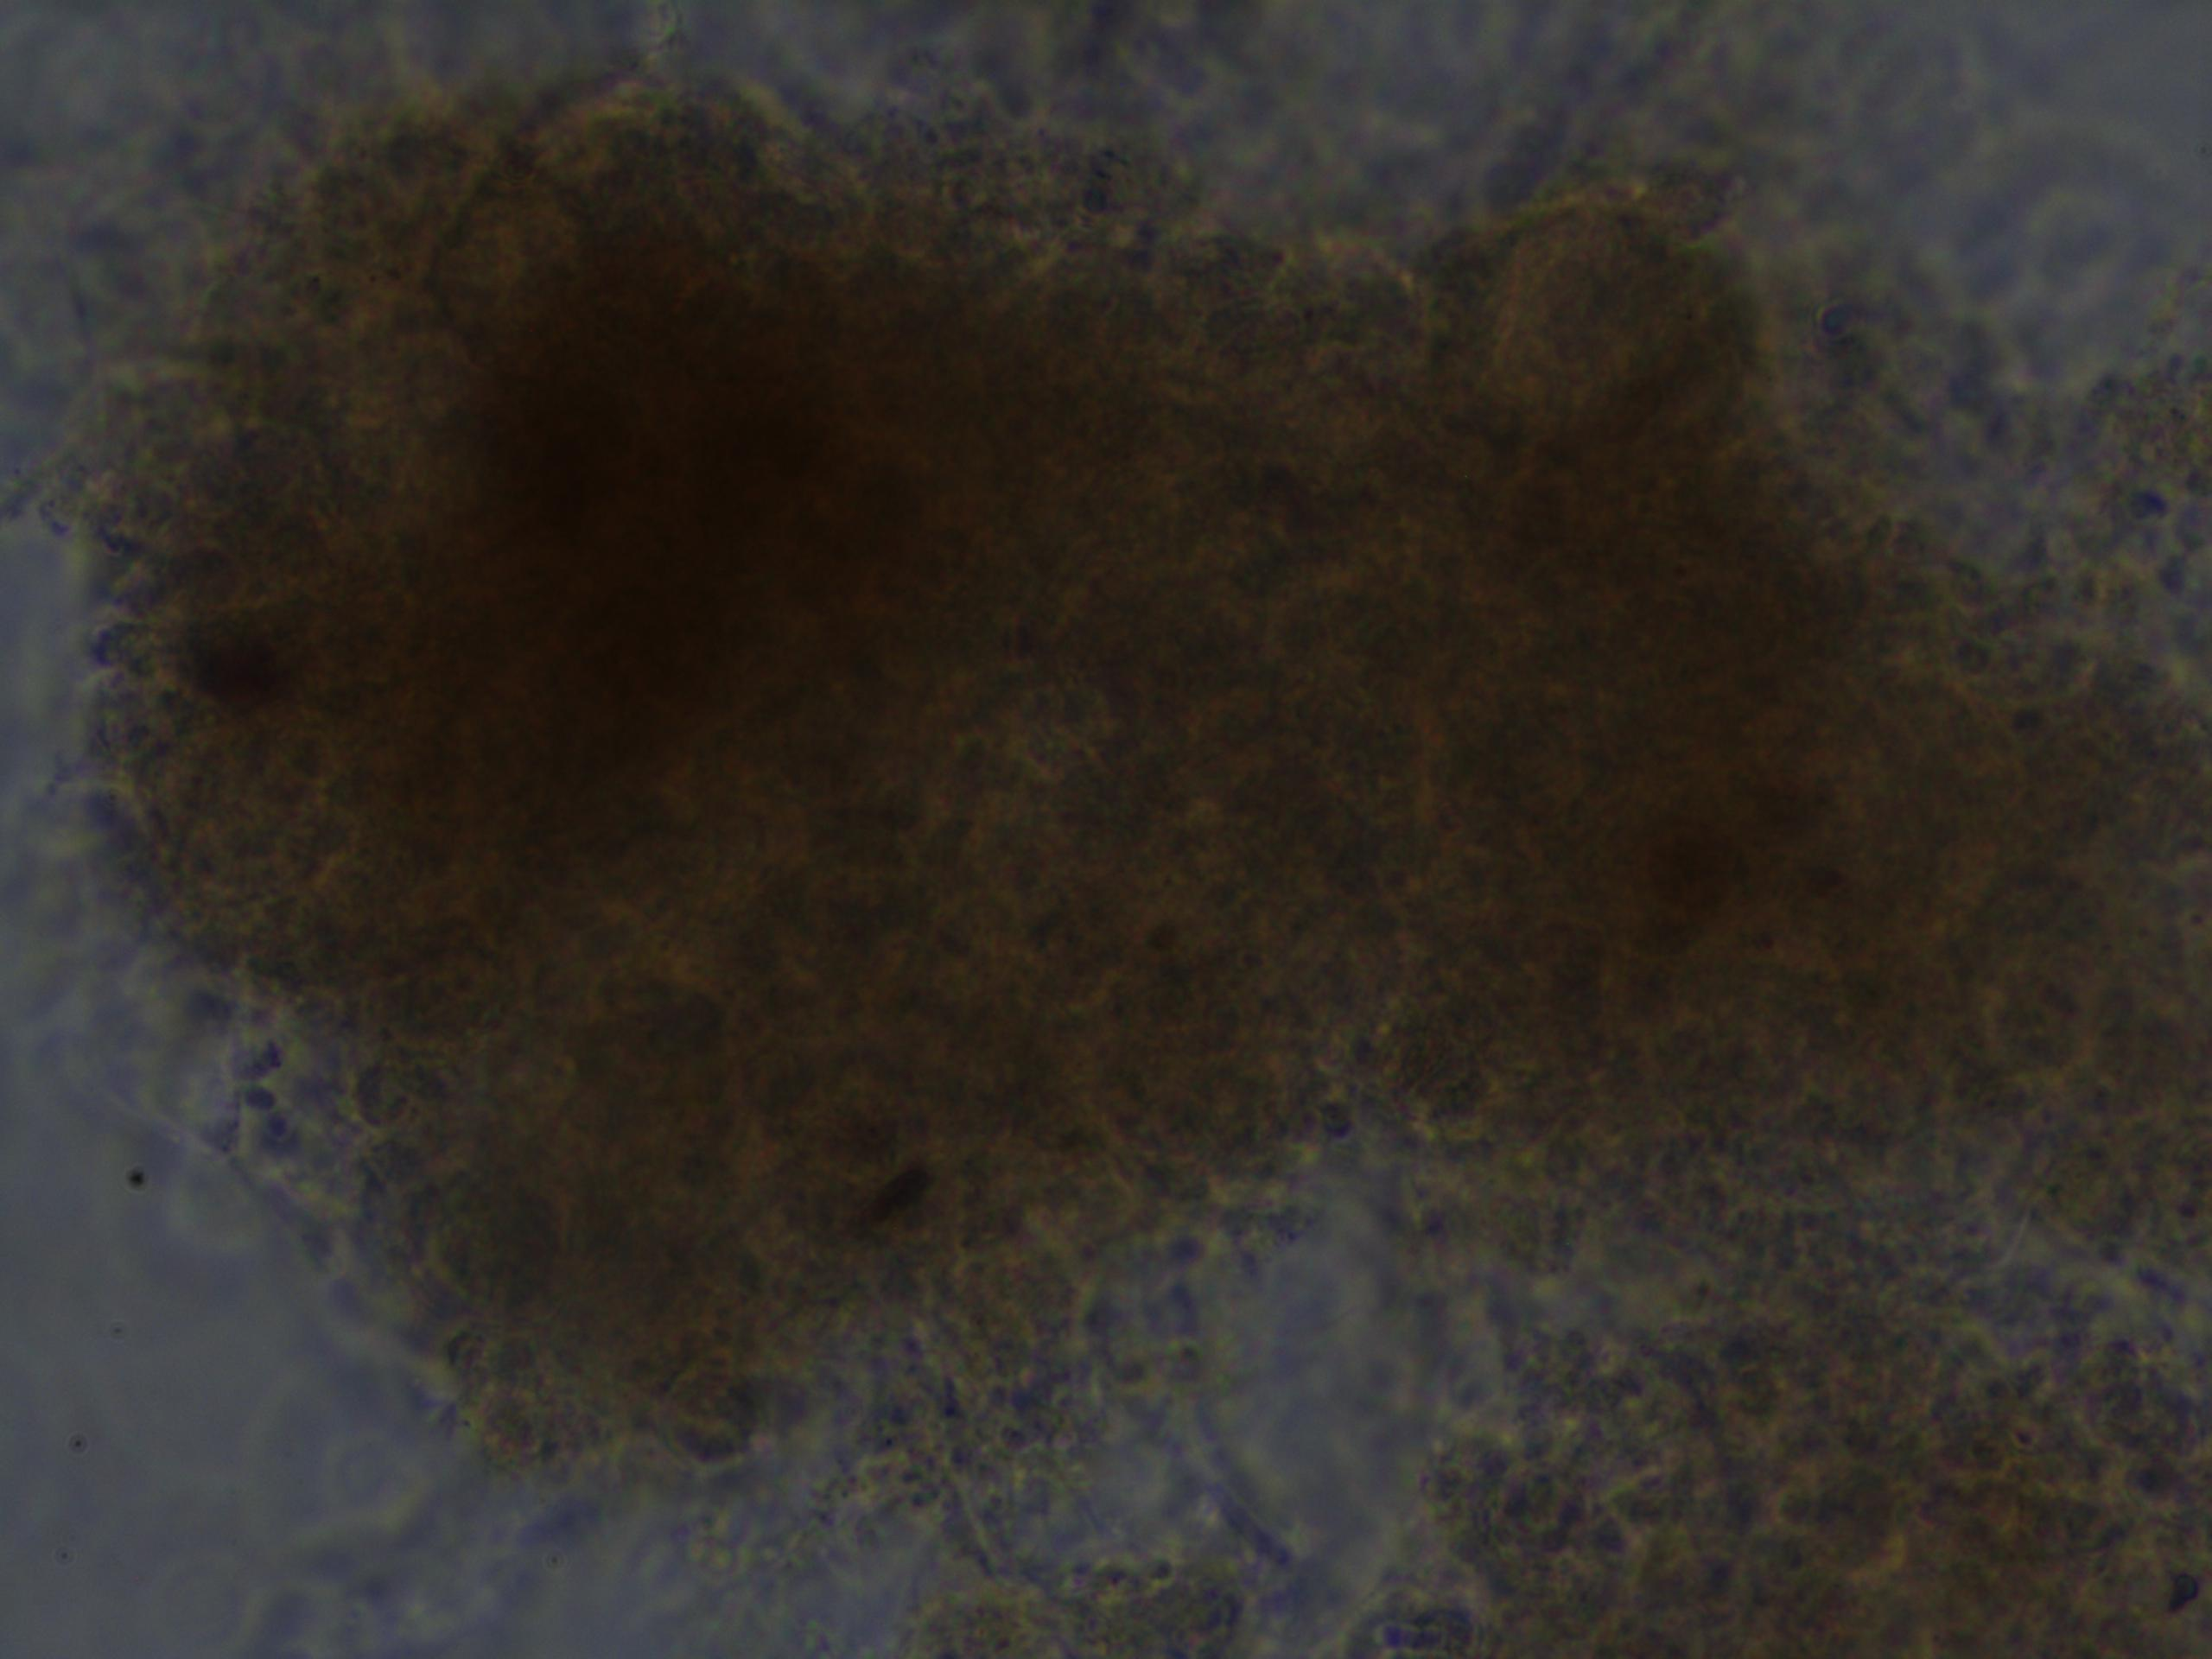spherical_floc: (23, 49, 2212, 1474)
